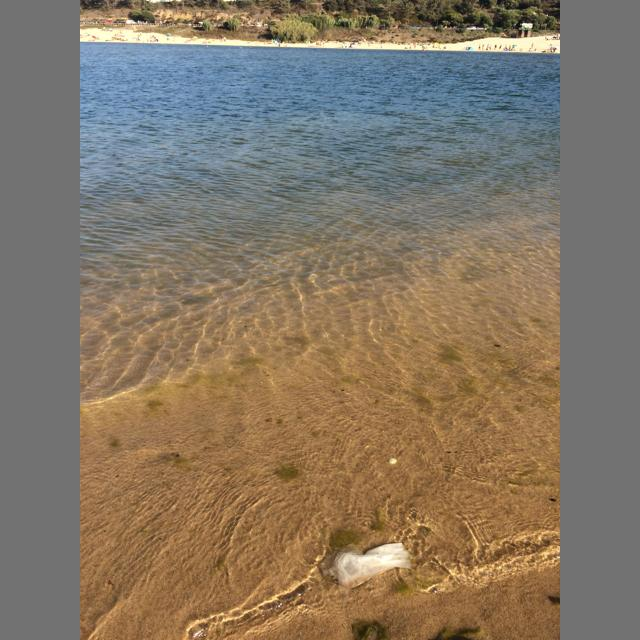litter: (320, 543, 413, 591)
